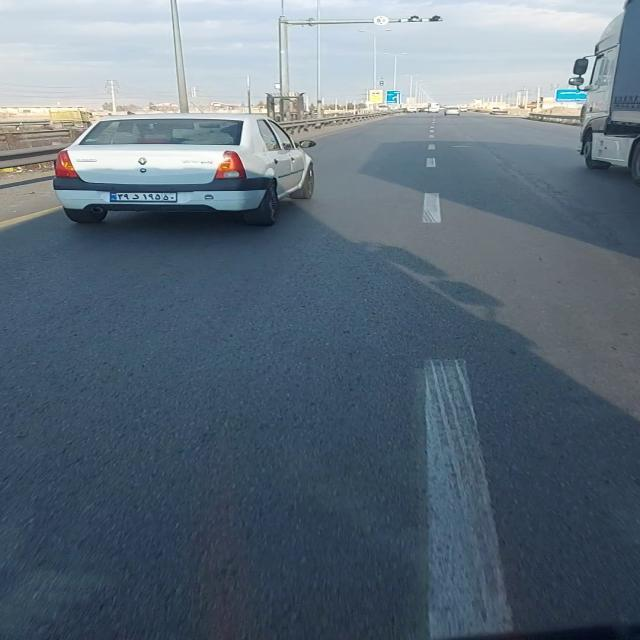Car: (50, 110, 322, 230)
Truck: (569, 0, 640, 176)
